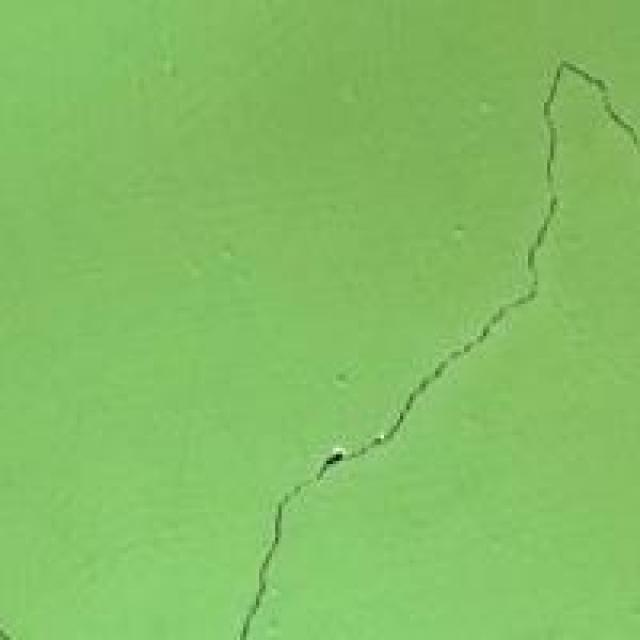crack: (205, 35, 637, 637)
